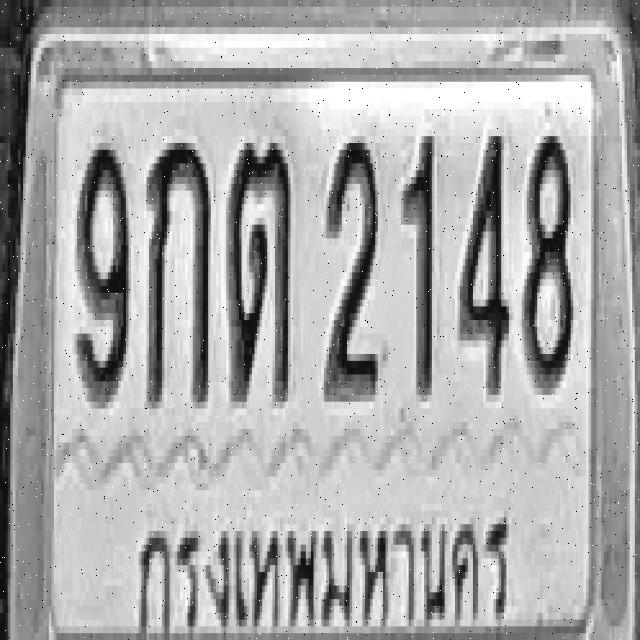1: (400, 129, 434, 395)
10GorGai: (146, 136, 210, 408)
2: (323, 132, 379, 398)
30TorTao: (228, 136, 292, 402)
4: (457, 129, 509, 395)
8: (523, 130, 572, 388)
9: (76, 140, 128, 406)
Bangkok: (131, 502, 527, 640)
